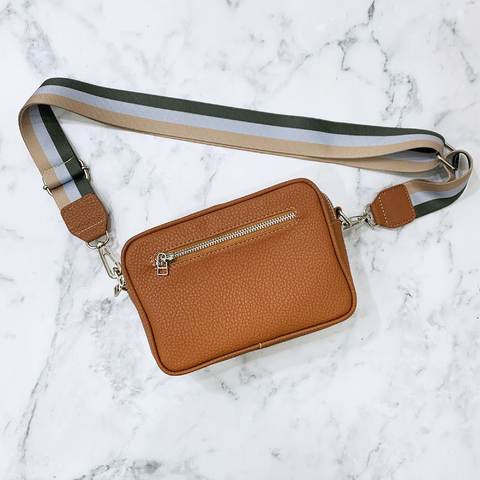cartera: (14, 69, 474, 388)
cuero: (71, 170, 382, 379)
